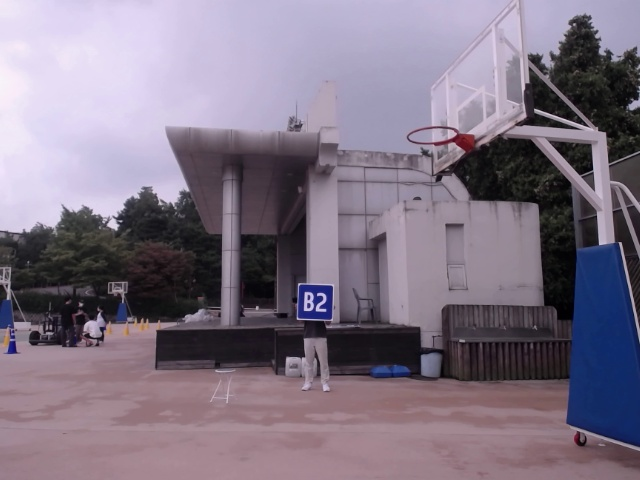delivery_b2: (296, 282, 334, 321)
